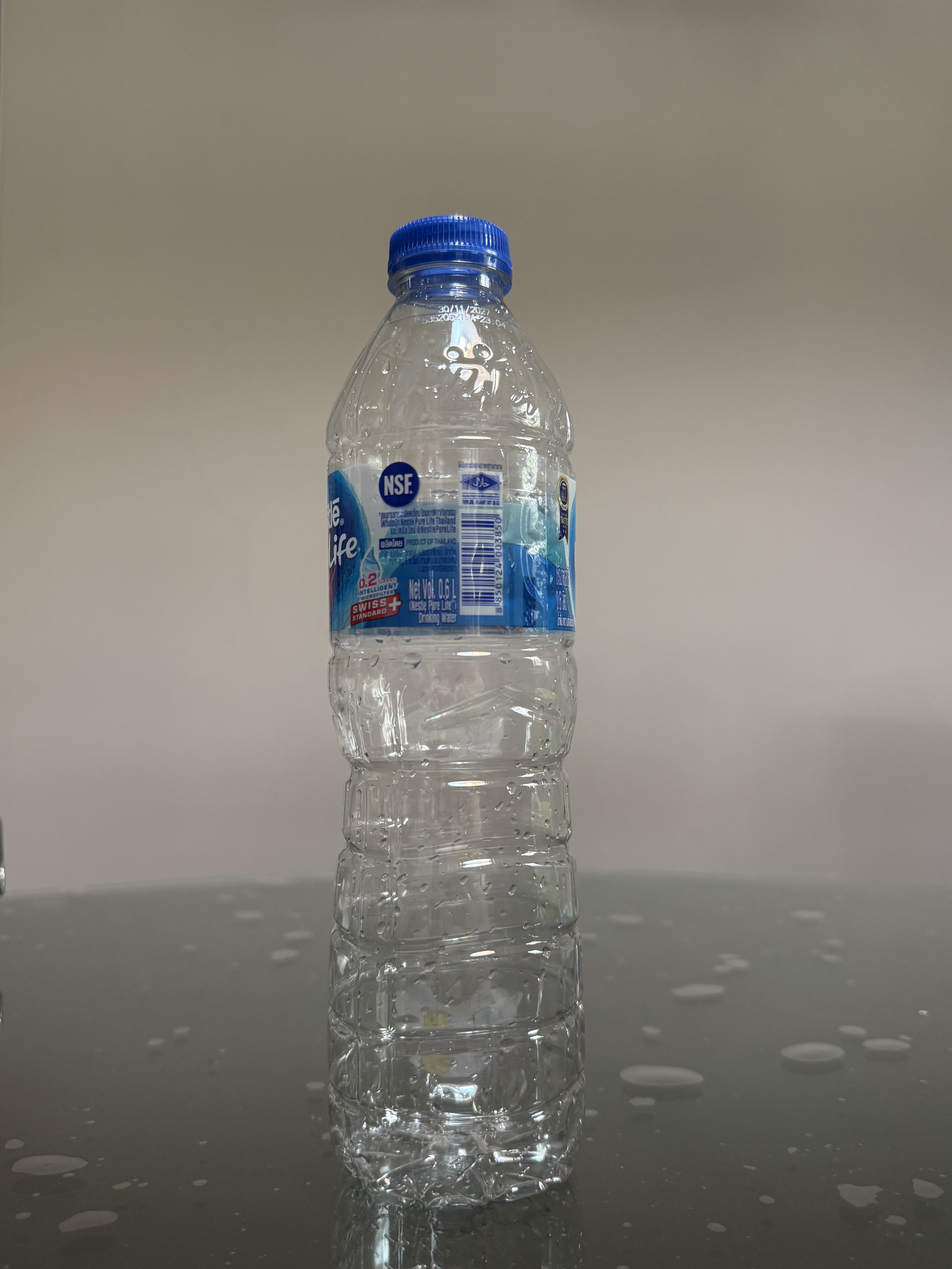closed_cap: (384, 211, 514, 295)
